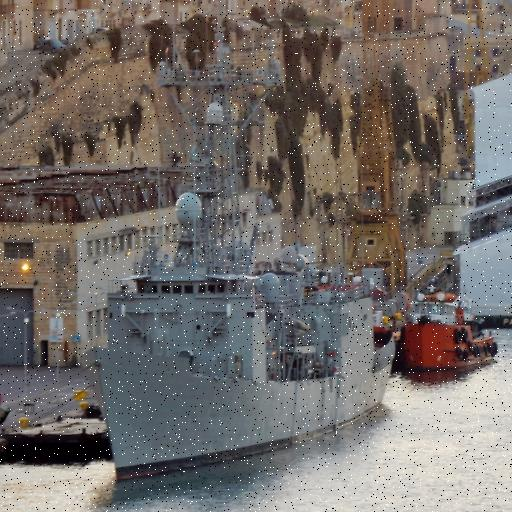Fragata: (77, 9, 400, 485)
